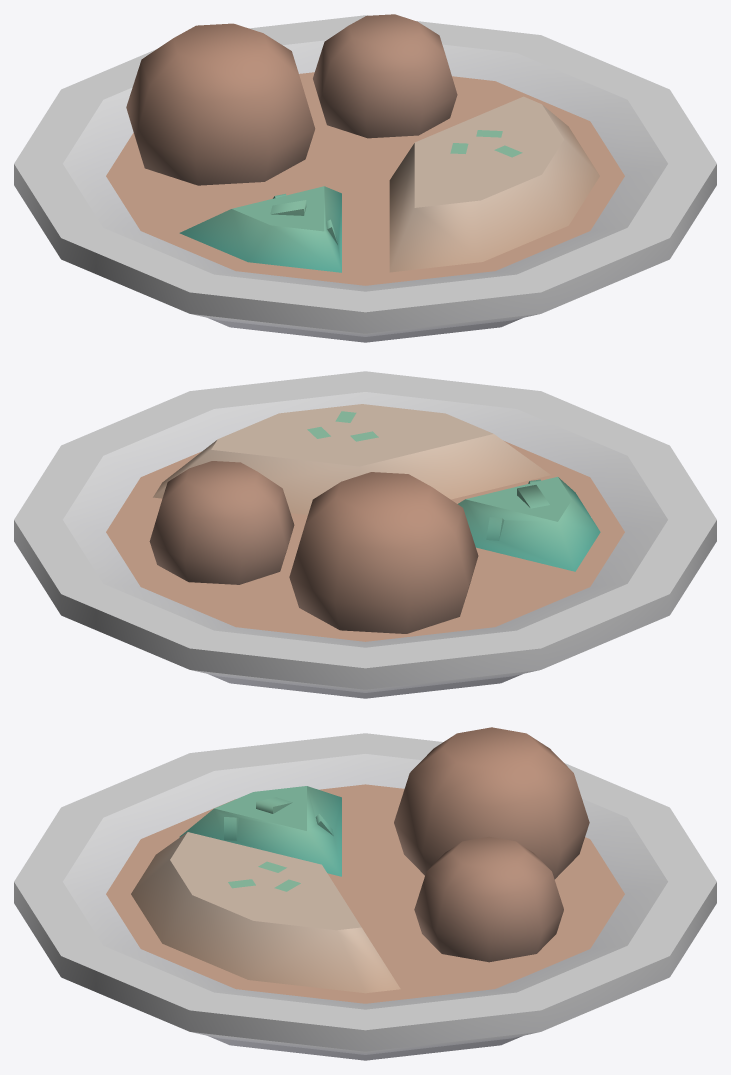
Rendered from plate-dinner.glb.
3 renders of one model, top to bottom at view 1: azimuth 30°, elevation 25°; view 2: azimuth 150°, elevation 25°; view 3: azimuth 270°, elevation 25°, orthographic.
Parts seen in each view (by area): view 1: plate-dinner; view 2: plate-dinner; view 3: plate-dinner.
Part boxes in pixels (left/top/right/bottom): plate-dinner: left=14, top=14, right=716, bottom=342; plate-dinner: left=14, top=371, right=716, bottom=698; plate-dinner: left=14, top=727, right=716, bottom=1060.
Size of the model in its own units: 0.8918 by 0.2214 by 0.8918.
